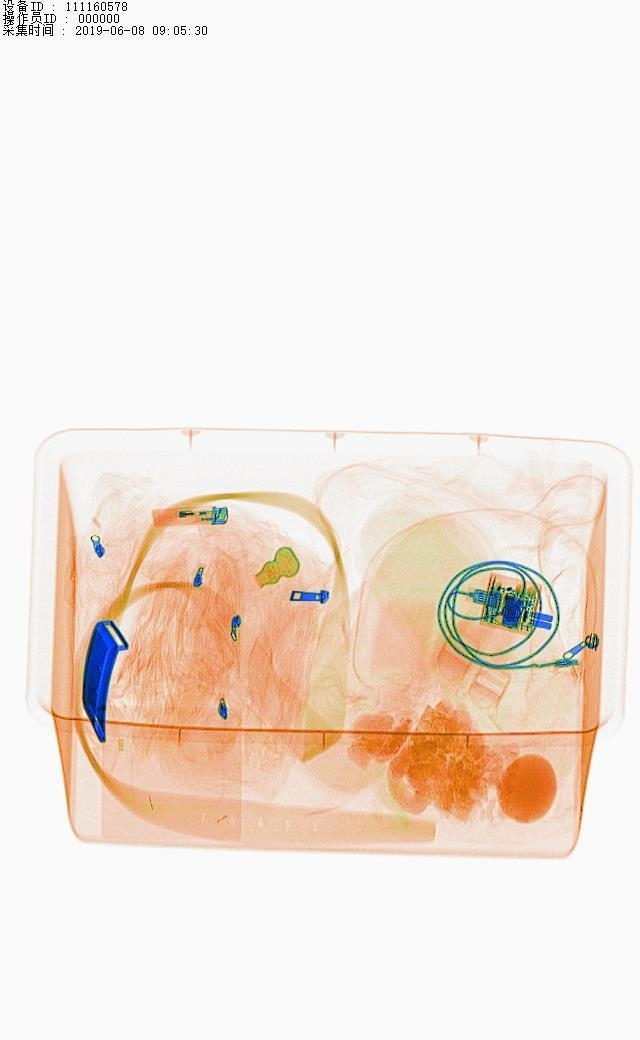NonmetallicFire: (128, 489, 236, 533)
